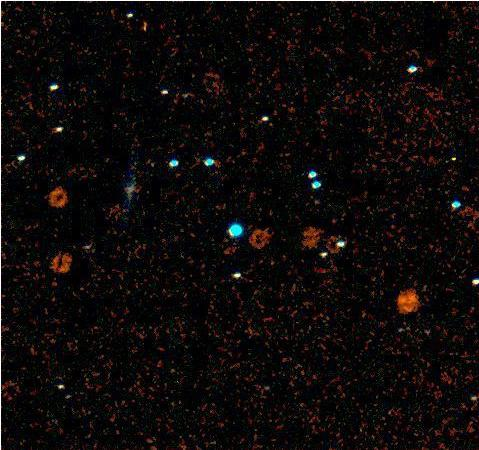star: (128, 12, 158, 42)
